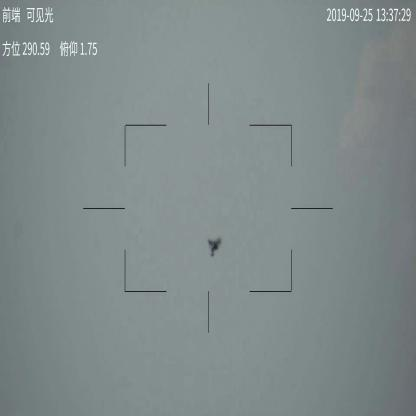uav: (206, 236, 225, 260)
